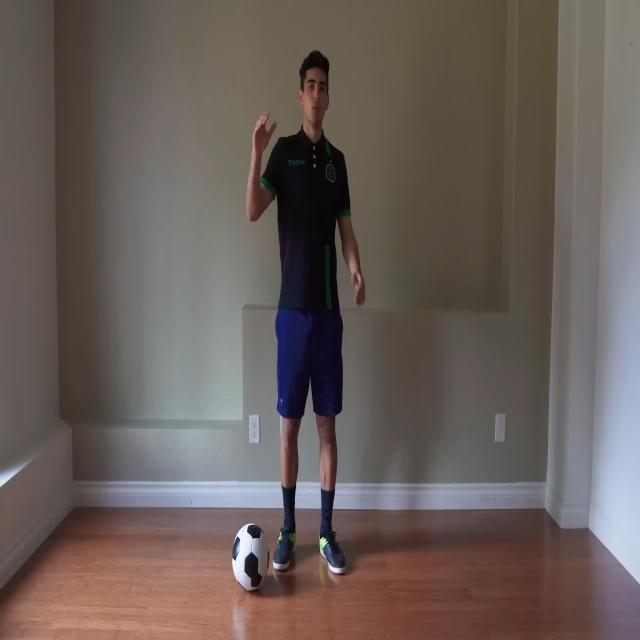Soccer Ball: (232, 522, 270, 591)
